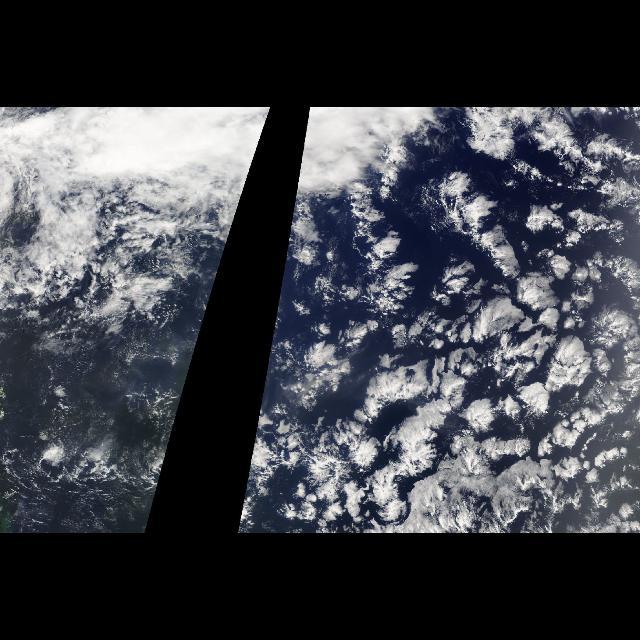Flower: (248, 151, 640, 534)
